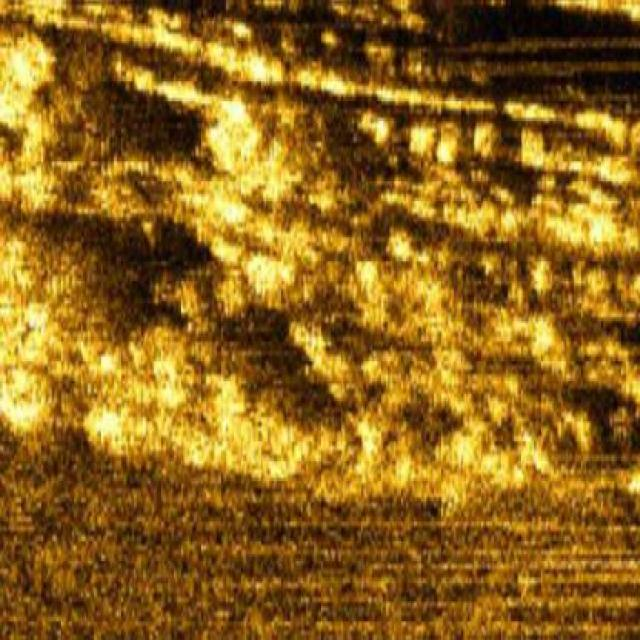bedrock group: (0, 0, 638, 507)
